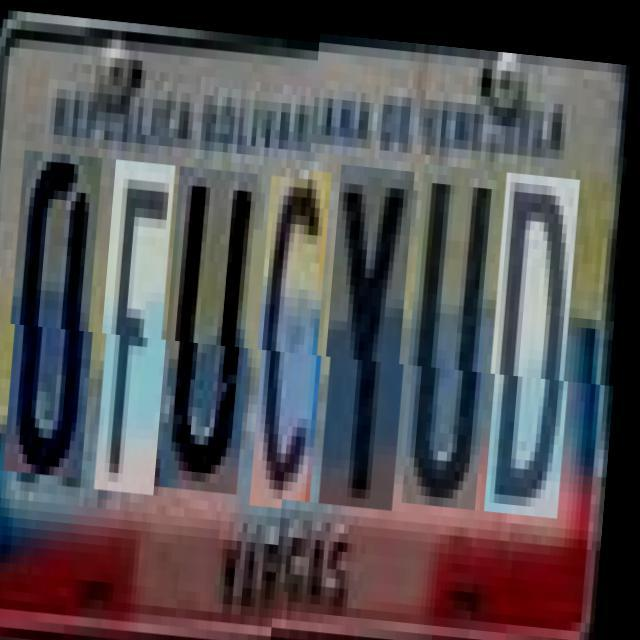0: (11, 150, 110, 476)
C: (257, 170, 338, 504)
D: (491, 170, 586, 514)
F: (102, 158, 183, 492)
U: (409, 164, 504, 508), (167, 162, 265, 488)
Y: (326, 167, 421, 510)
